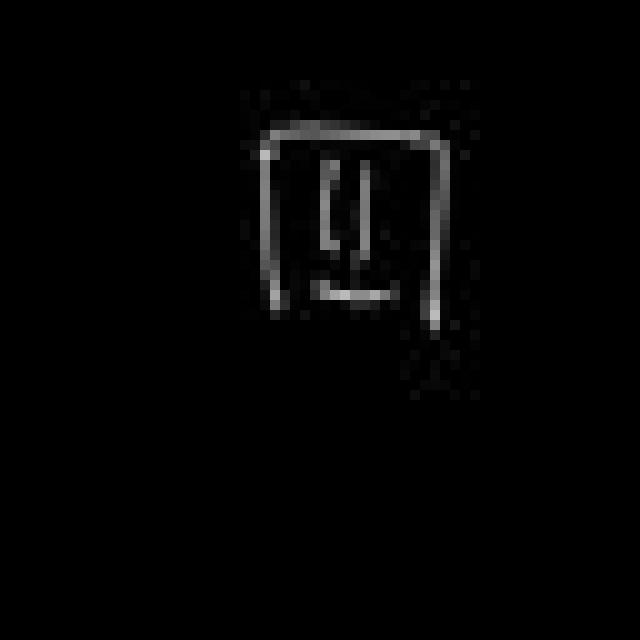4 -four-: (237, 114, 466, 339)
